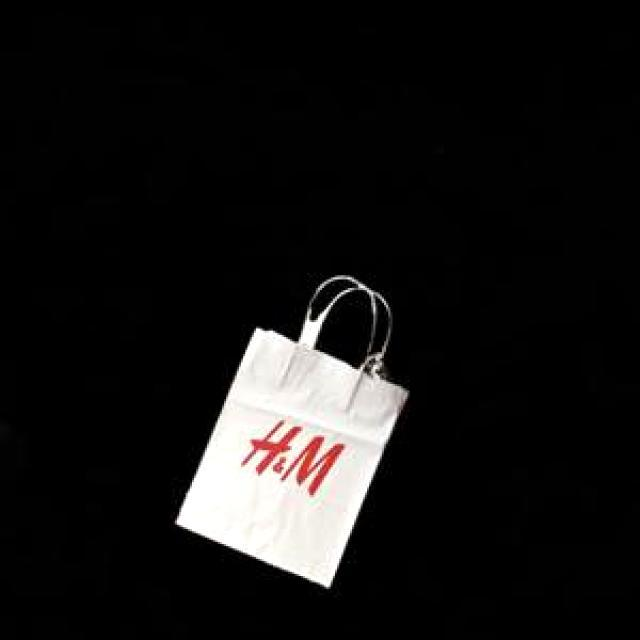Paper_Bag: (173, 306, 404, 584)
